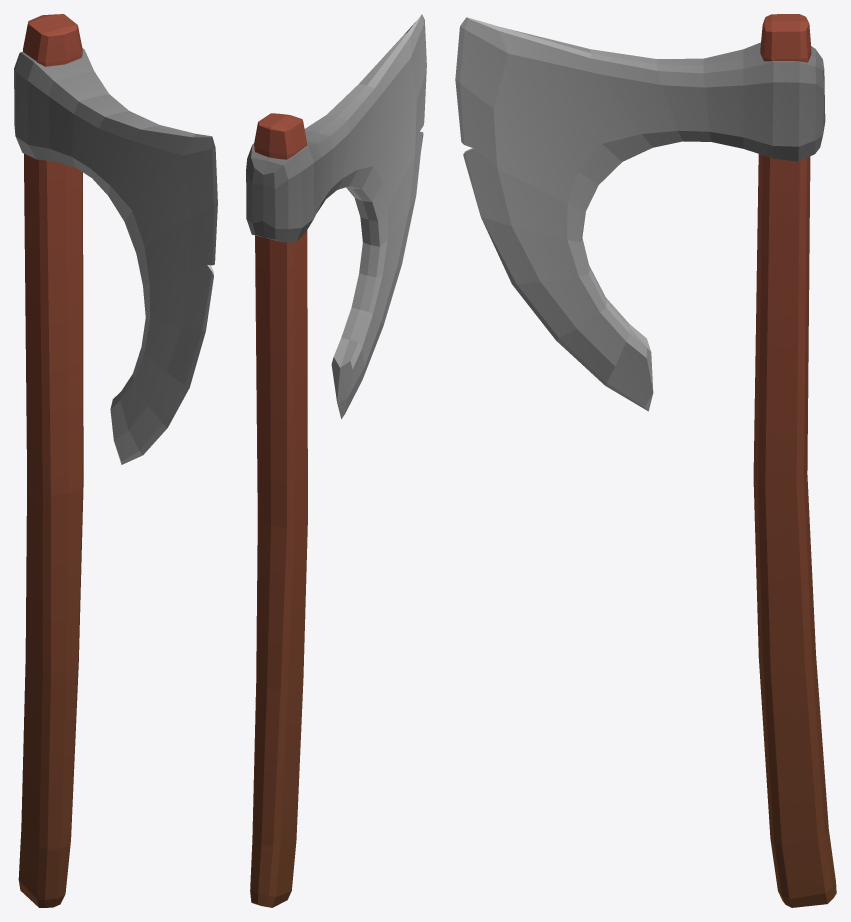
File: OnehandAxe.fbx
3 renders of one model, left to right at view 1: azimuth 30°, elevation 25°; view 2: azimuth 150°, elevation 25°; view 3: azimuth 270°, elevation 25°, orthographic. The views are drawn at different scales.
Visible parts, largest first — view 1: OnehandAxe; view 2: OnehandAxe; view 3: OnehandAxe.
Boxes of the visible parts, x1,y1,x2,y2 form: OnehandAxe: [14, 14, 217, 907]; OnehandAxe: [246, 14, 426, 907]; OnehandAxe: [455, 14, 836, 907].
Size of the model in its own units: 0.0526 by 0.7048 by 0.2746.
